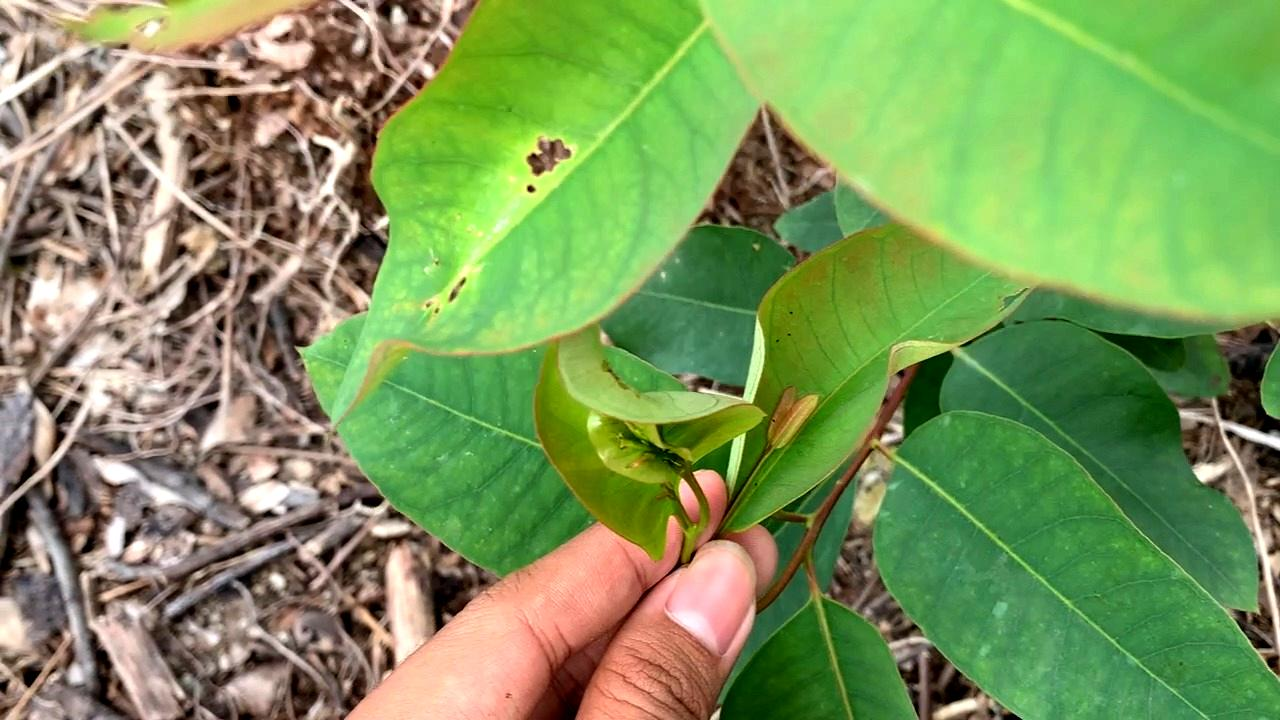Leaf Roller - Leaf: (538, 325, 760, 538)
